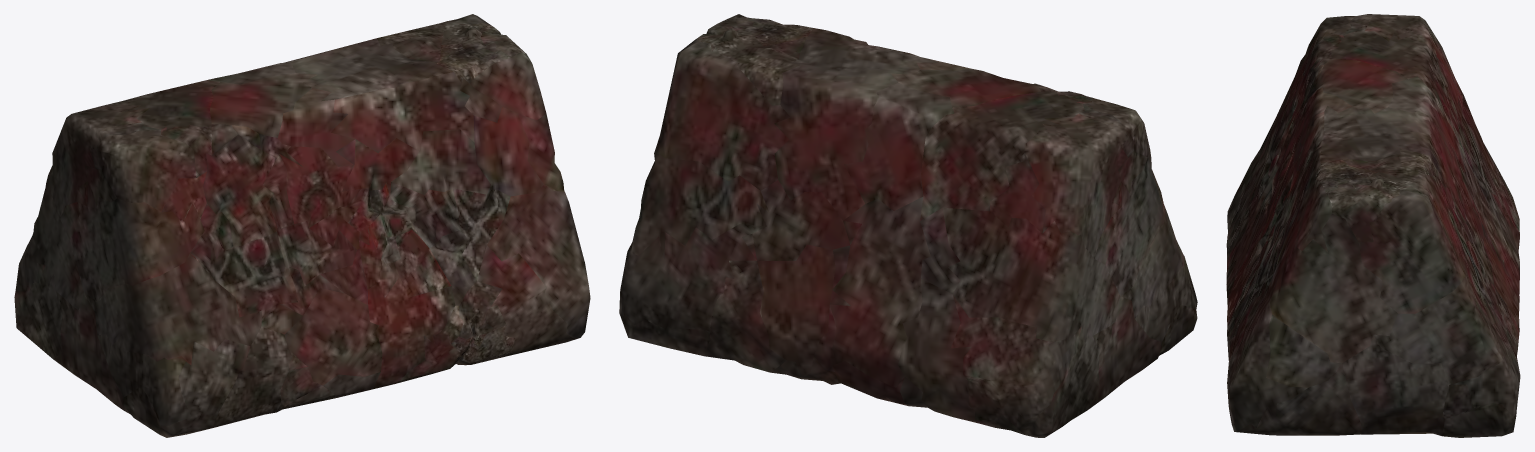
Rendered from blockset_b1.glb.
3 views of the same model, side by side, from view 1: azimuth 30°, elevation 25°; view 2: azimuth 150°, elevation 25°; view 3: azimuth 270°, elevation 25° (orthographic). The views are drawn at different scales.
Bounding box in the file's own units: 112 × 66.46 × 71.64.
1 material, 1 textured.
